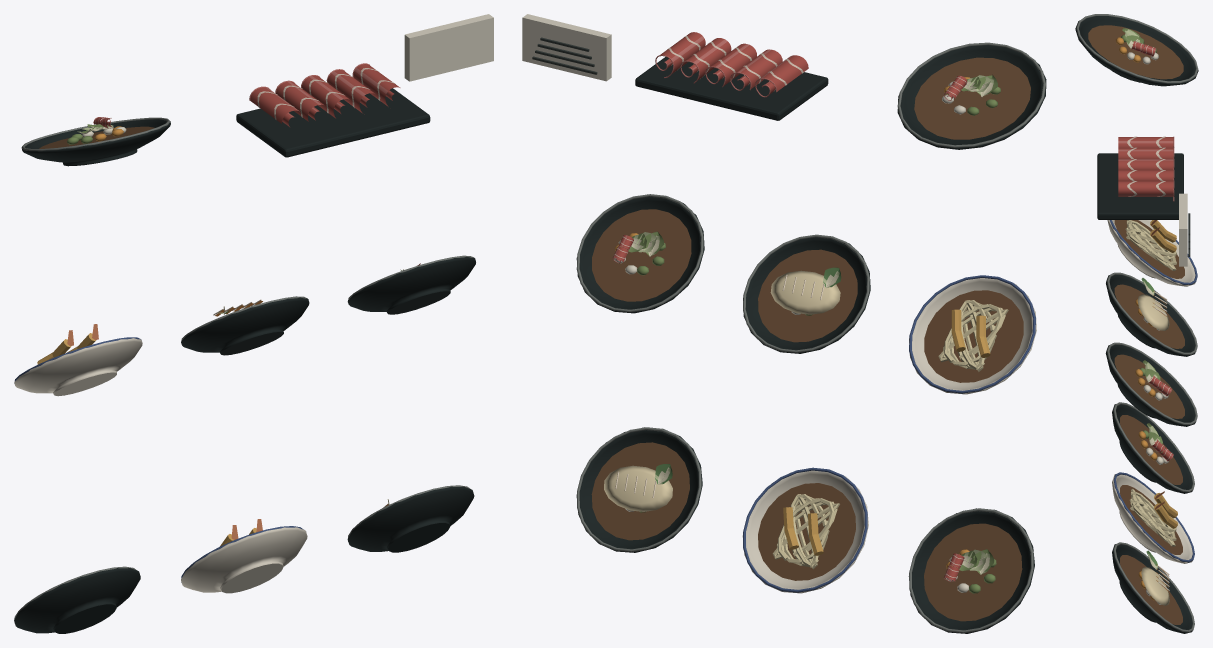
The model's file is samples.glb.
3 views of the same model, side by side, from view 1: azimuth 30°, elevation 25°; view 2: azimuth 150°, elevation 25°; view 3: azimuth 270°, elevation 25° (orthographic). The views are drawn at different scales.
Visible parts, largest first — view 1: Waraku_samples; view 2: Waraku_samples; view 3: Waraku_samples.
Part boxes in pixels (box(x1,y1,x2,y2)): Waraku_samples: box(14, 14, 493, 633); Waraku_samples: box(522, 14, 1046, 633); Waraku_samples: box(1075, 14, 1198, 633).
Size of the model in its own units: 0.732 by 0.7683 by 0.1852.
